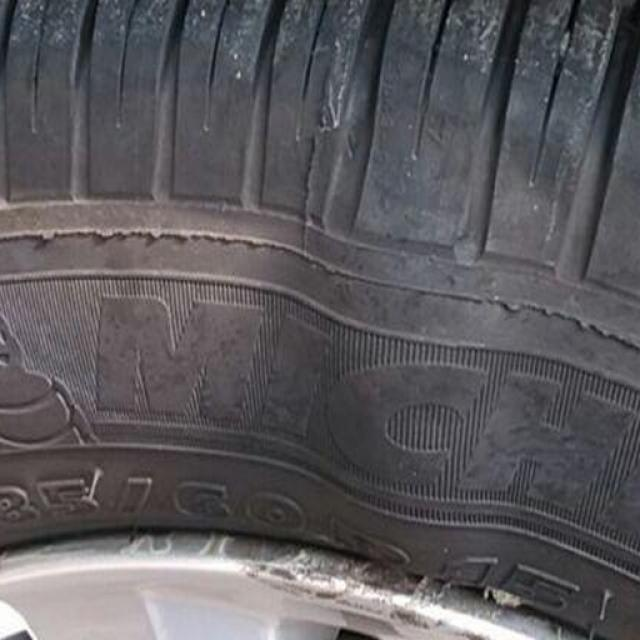Bulge: (286, 194, 572, 557)
